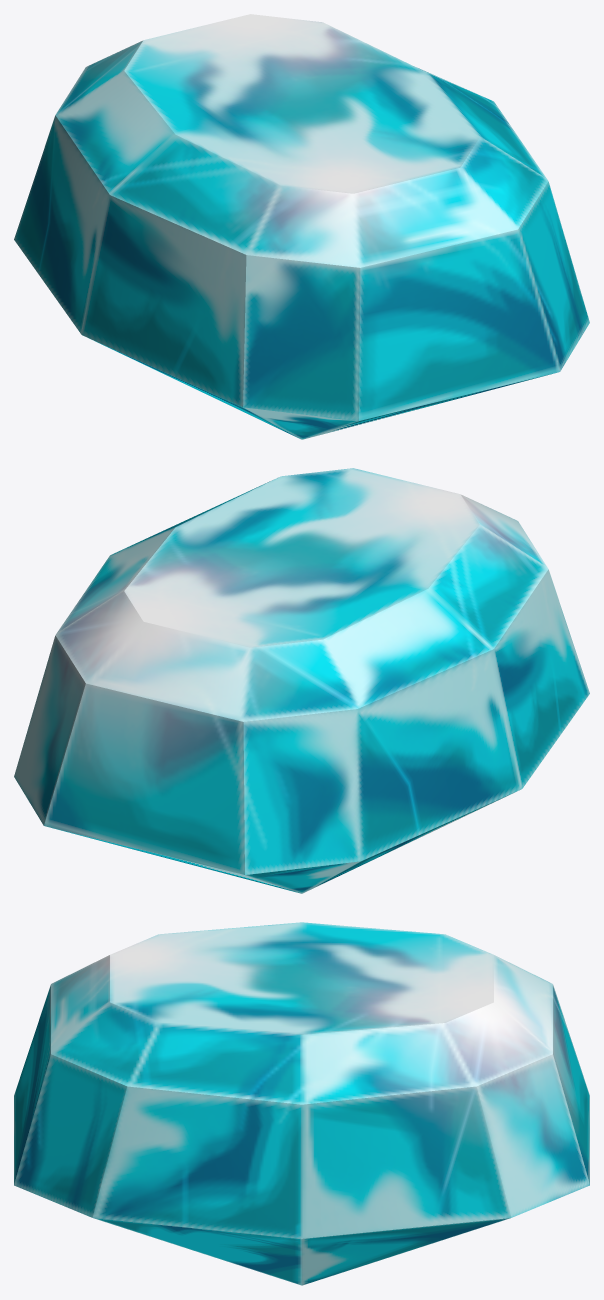
Rendered from stone_blue_005.fbx.
The picture shows the model from 3 angles, top to bottom: view 1: azimuth 30°, elevation 25°; view 2: azimuth 150°, elevation 25°; view 3: azimuth 270°, elevation 25°; orthographic projection. The views are drawn at different scales.
Parts seen in each view (by area): view 1: stone; view 2: stone; view 3: stone.
Part boxes in pixels (left/top/right/bottom): stone: left=14, top=14, right=589, bottom=439; stone: left=14, top=468, right=589, bottom=893; stone: left=14, top=922, right=589, bottom=1285.
Size of the model in its own units: 6.66 by 4.85 by 8.24.
